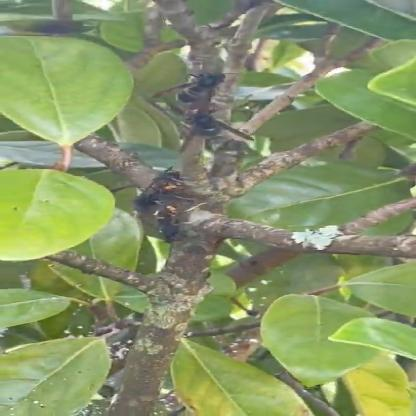bee: (108, 146, 217, 249), (157, 48, 257, 154)
